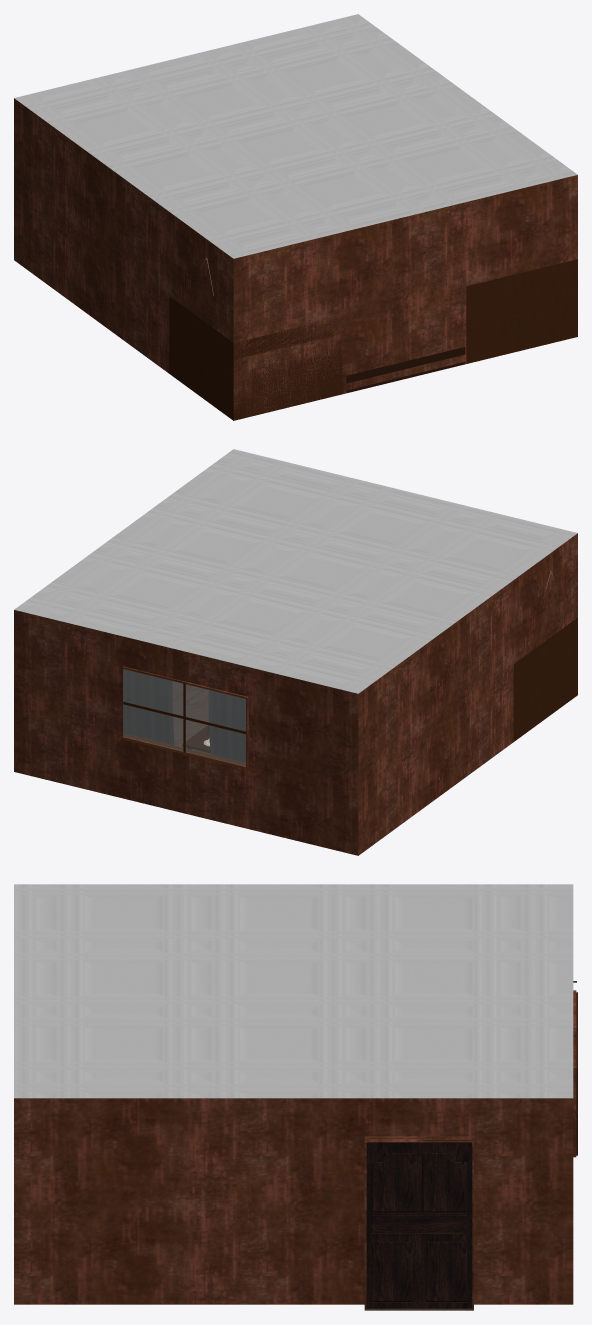
Rendered from new_vintage_living_room.fbx.
3 views of the same model, one above another, from view 1: azimuth 30°, elevation 25°; view 2: azimuth 150°, elevation 25°; view 3: azimuth 270°, elevation 25° (orthographic). The views are drawn at different scales.
Parts seen in each view (by area): view 1: Vintage_Living_Room_Interior; view 2: Vintage_Living_Room_Interior; view 3: Vintage_Living_Room_Interior.
Part boxes in pixels (<box>): Vintage_Living_Room_Interior: <box>14,14,577,420</box>; Vintage_Living_Room_Interior: <box>14,449,577,855</box>; Vintage_Living_Room_Interior: <box>14,884,577,1310</box>.
Size of the model in its own units: 572 by 250 by 619.
